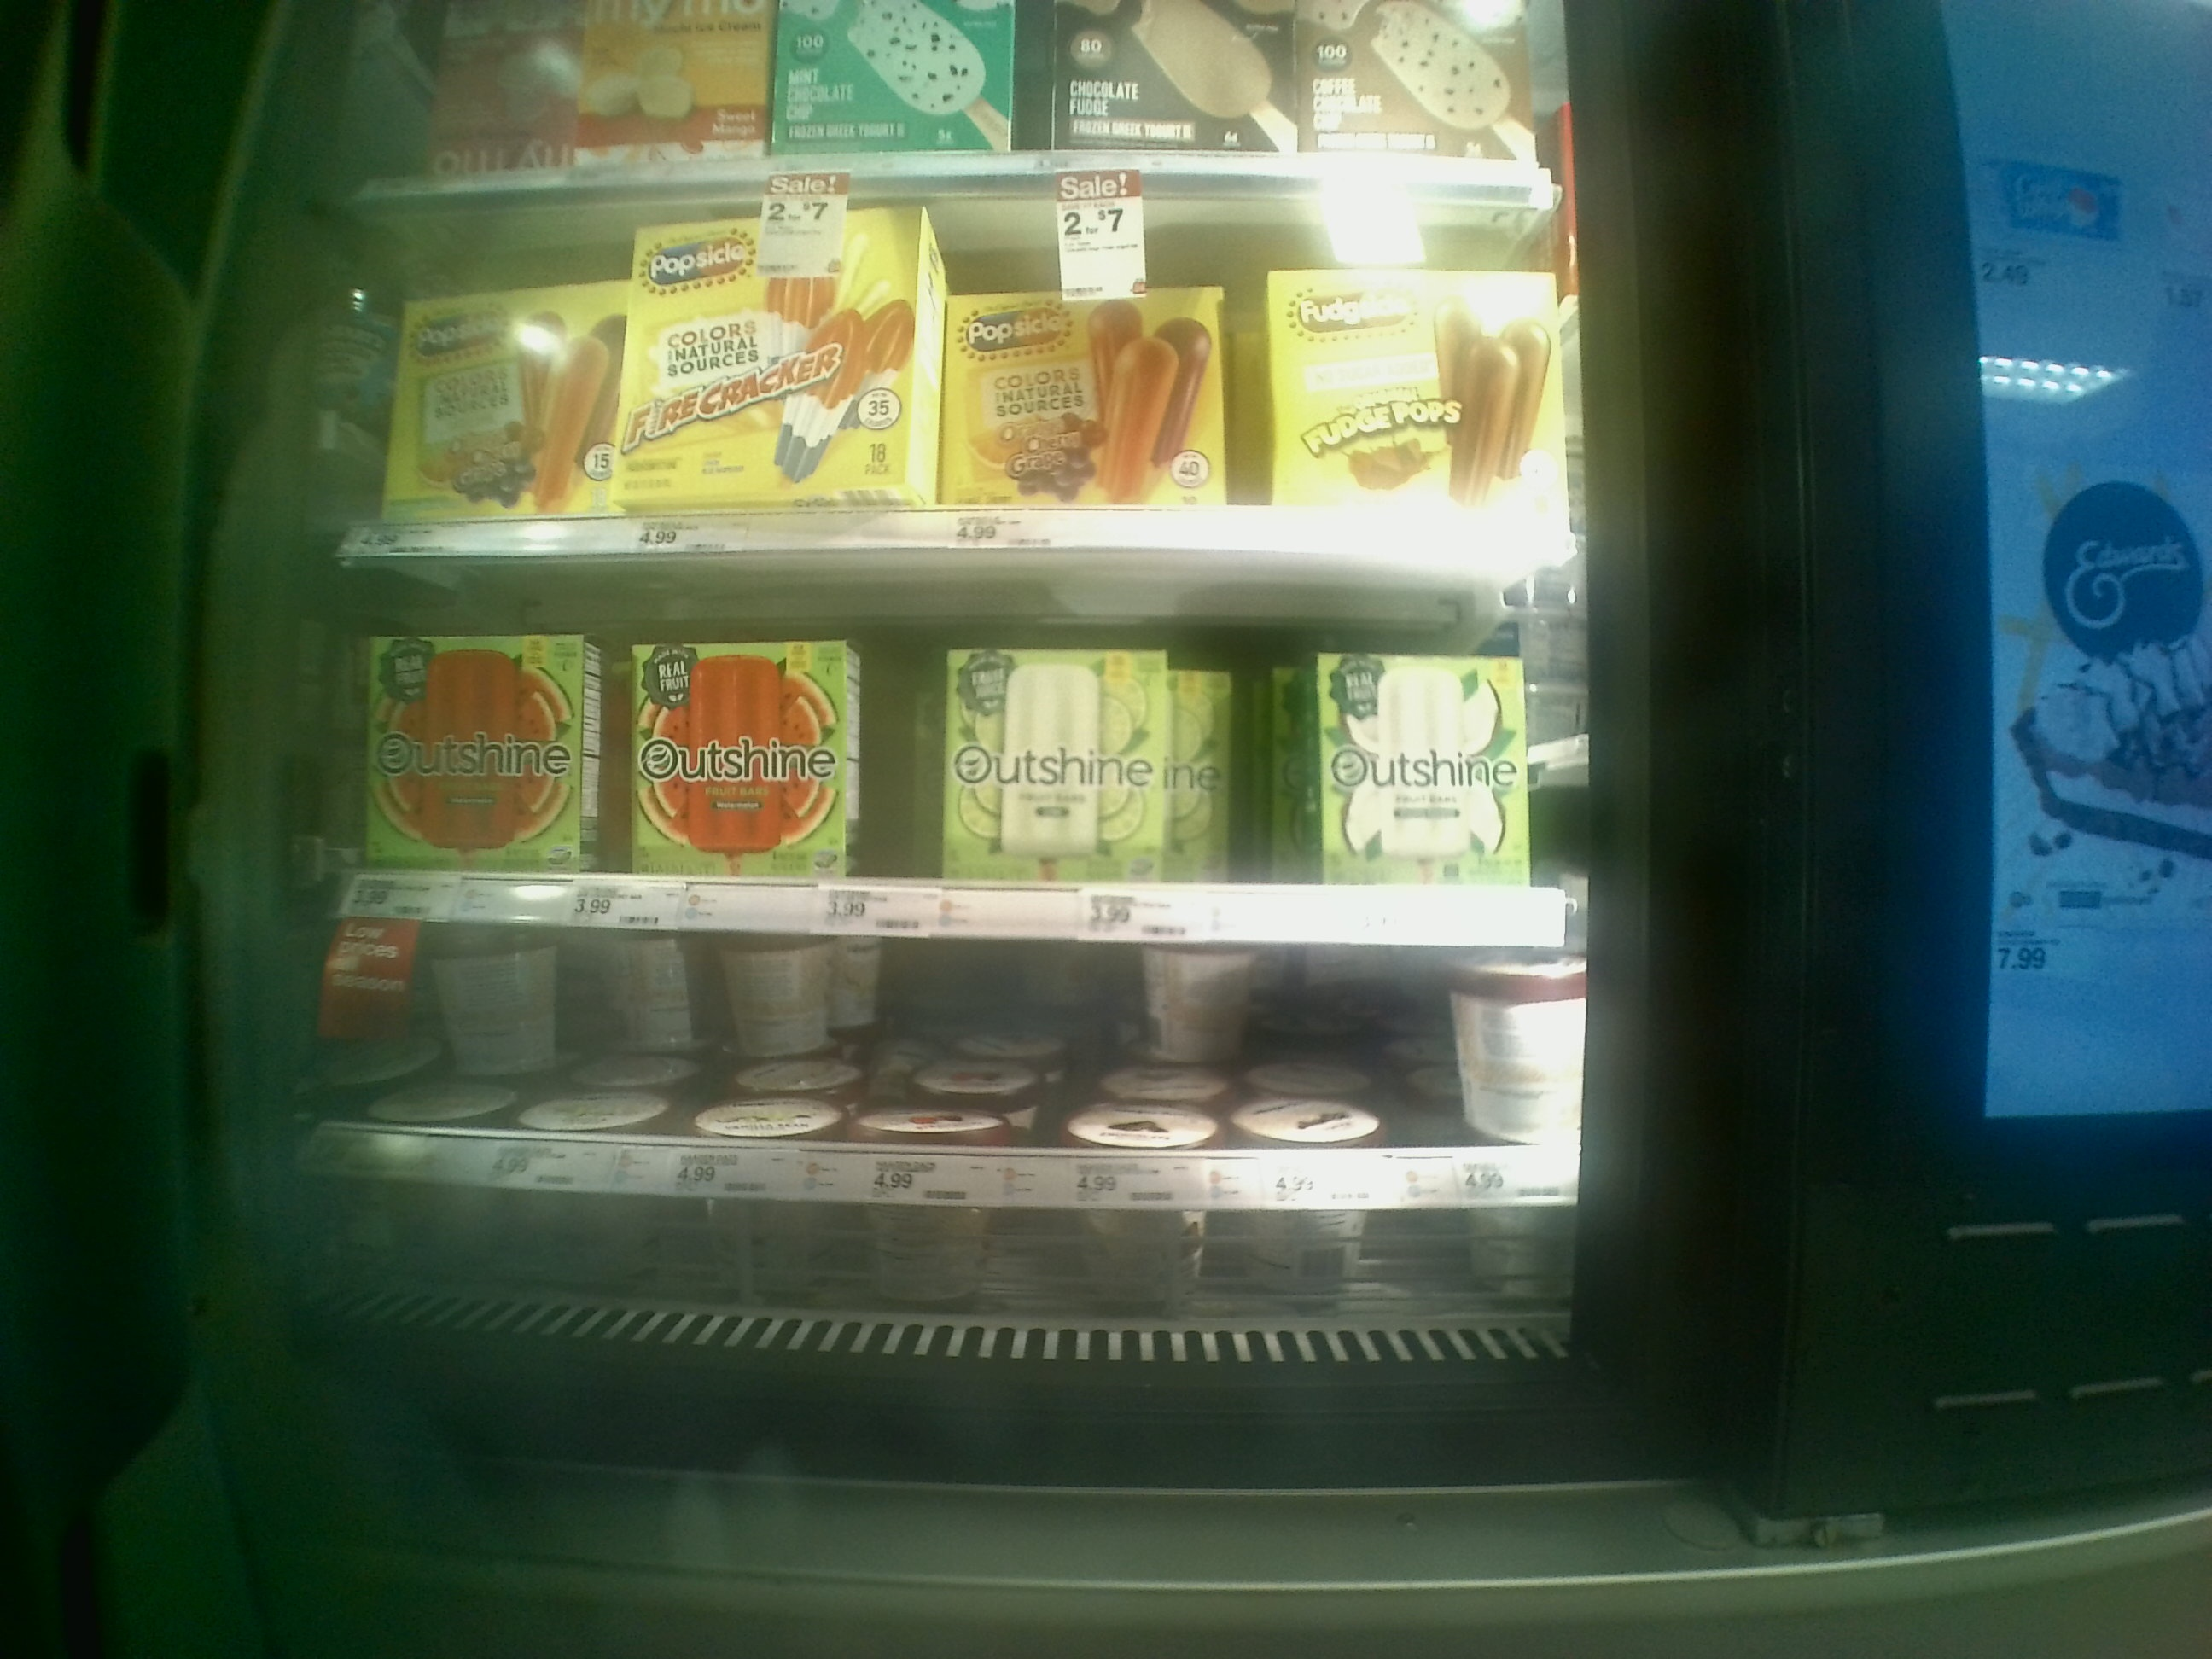shelf: (341, 556, 1590, 932), (341, 211, 1576, 551), (326, 934, 1587, 1201)
